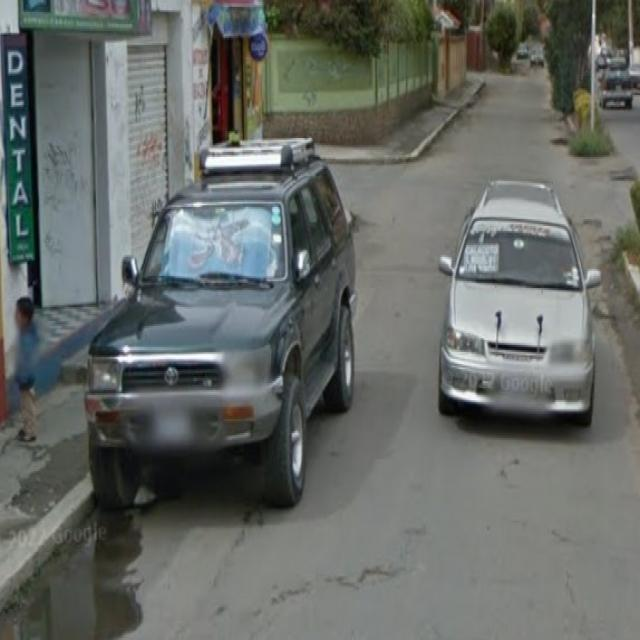cars: (91, 152, 356, 516), (442, 181, 591, 445)
